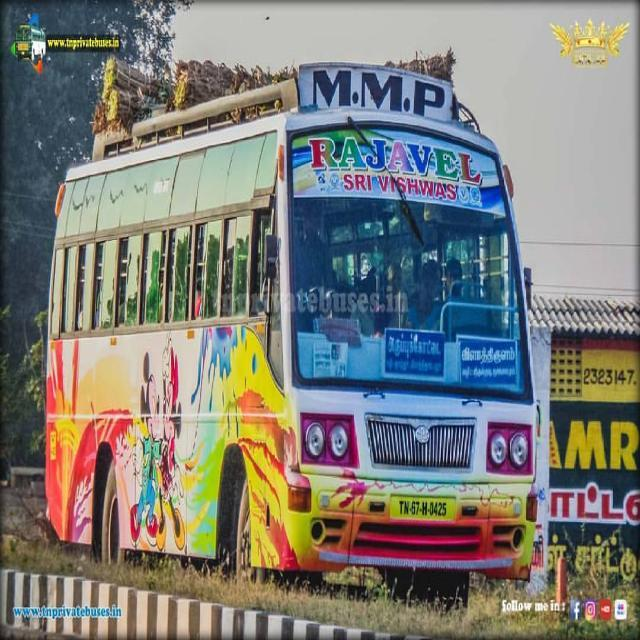Bus: (41, 56, 550, 620)
